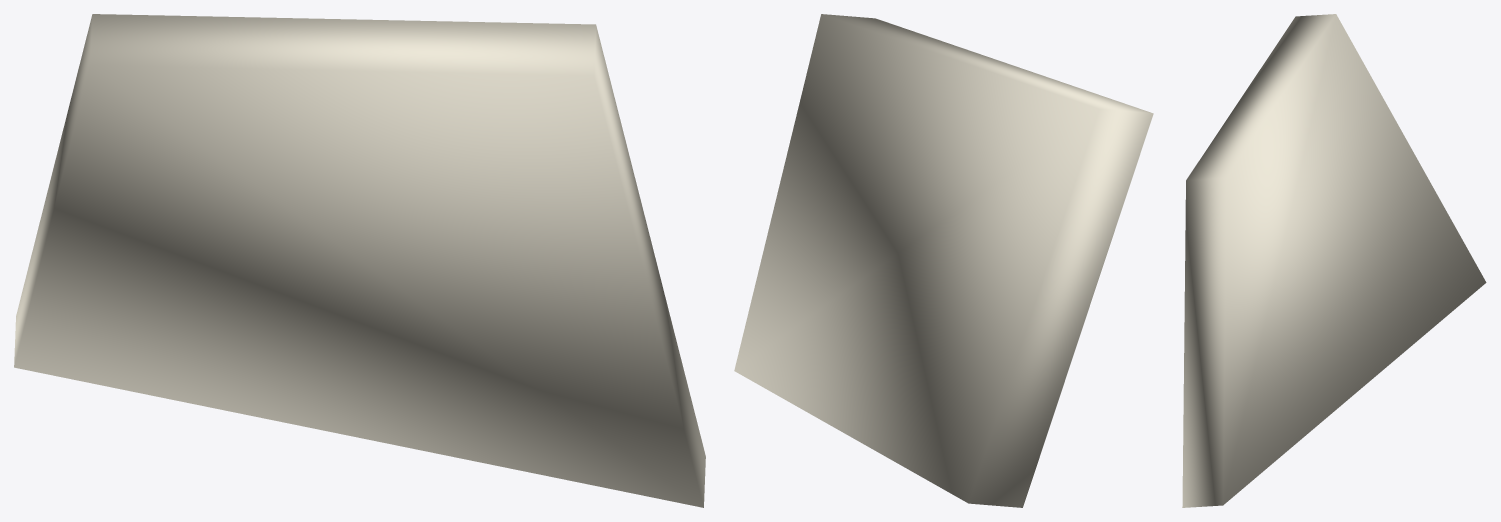
3 views of the same model, side by side, from view 1: azimuth 30°, elevation 25°; view 2: azimuth 150°, elevation 25°; view 3: azimuth 270°, elevation 25° (orthographic). The views are drawn at different scales.
Visible parts, largest first — view 1: ZA_4d19d6f8e5a863a5; view 2: ZA_4d19d6f8e5a863a5; view 3: ZA_4d19d6f8e5a863a5.
Part boxes in pixels (box(x1,y1,x2,y2)): ZA_4d19d6f8e5a863a5: box(14, 14, 705, 507); ZA_4d19d6f8e5a863a5: box(734, 14, 1153, 507); ZA_4d19d6f8e5a863a5: box(1182, 14, 1486, 507).
Size of the model in its own units: 0.0125 by 0.0113 by 0.00916.
